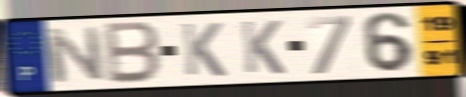6: (361, 10, 417, 74)
7: (305, 15, 352, 76)
B: (104, 20, 163, 85)
K: (179, 21, 228, 78), (238, 19, 287, 76)
N: (42, 25, 108, 85)
